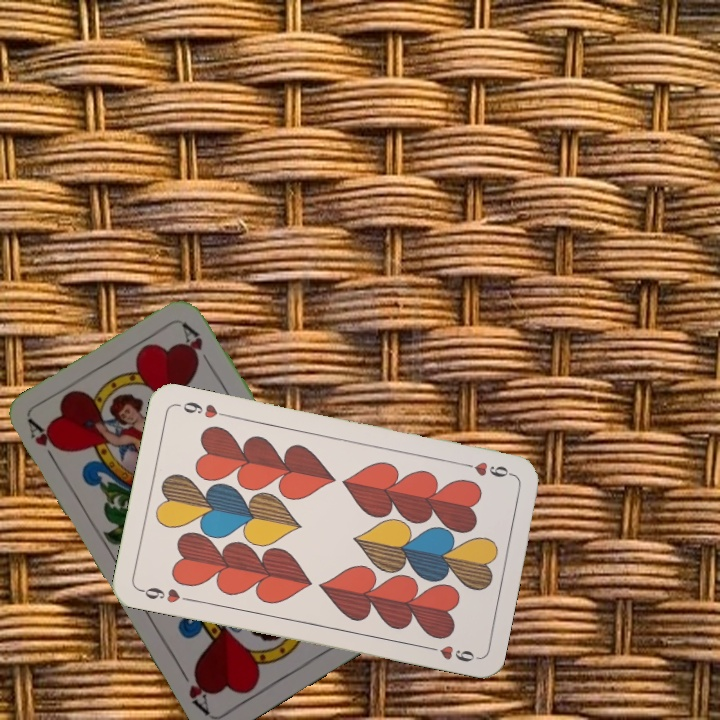H9: (136, 583, 194, 606), (457, 458, 516, 480)
HA: (24, 416, 63, 470)
